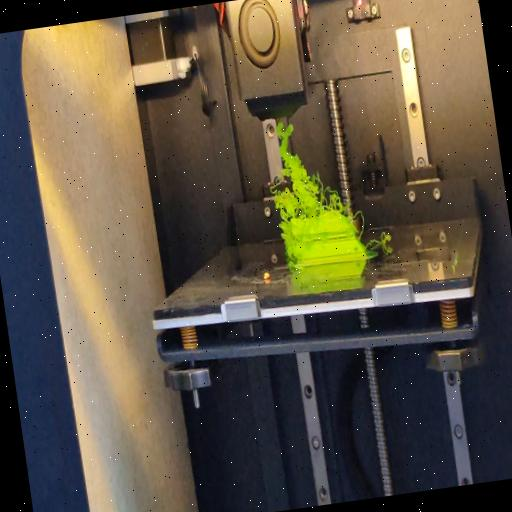spaghetti: (259, 113, 344, 226), (279, 222, 297, 272), (362, 230, 396, 252), (353, 209, 367, 236)
